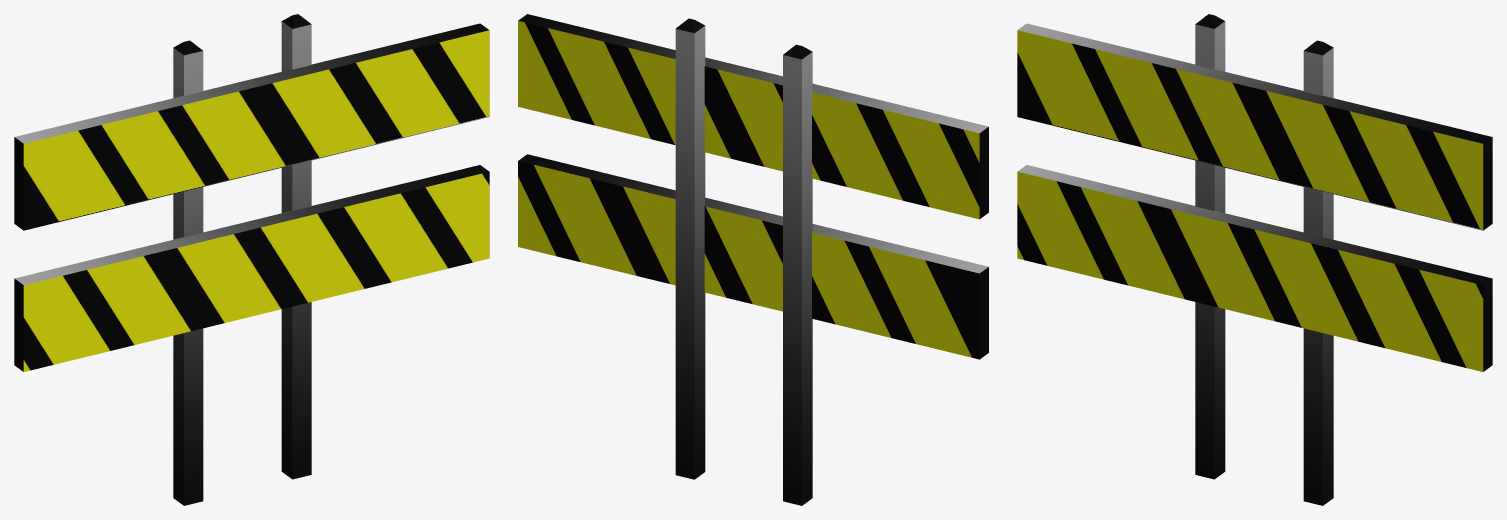
Rendered from Obstacle_yolkapali.fbx.
3 views of the same model, side by side, from view 1: azimuth 30°, elevation 25°; view 2: azimuth 150°, elevation 25°; view 3: azimuth 330°, elevation 25° (orthographic).
Visible parts, largest first — view 1: Cube; view 2: Cube; view 3: Cube.
Boxes of the visible parts, x1,y1,x2,y2 form: Cube: [14, 14, 489, 505]; Cube: [518, 14, 988, 505]; Cube: [1017, 14, 1492, 505].
Bounding box in the file's own units: 760 × 713 × 55.19.
1 material, 1 textured.
